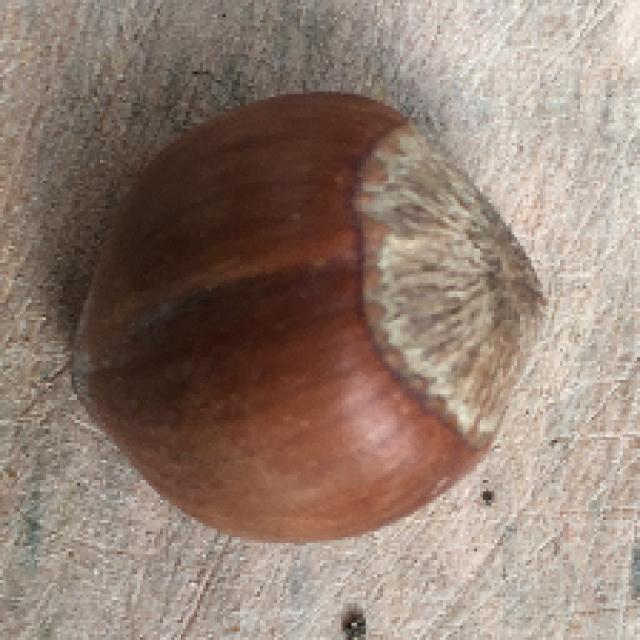damagedHazelnut: (68, 82, 548, 553)
